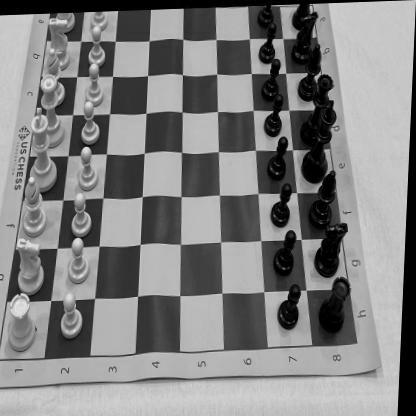black-bishop: (310, 171, 338, 228), (298, 43, 322, 100)
black-king: (302, 99, 340, 182)
black-pawn: (280, 279, 304, 332), (276, 228, 300, 276), (272, 177, 294, 226), (263, 89, 285, 137), (260, 56, 282, 99), (269, 132, 289, 179), (258, 21, 278, 63), (257, 4, 276, 28)
black-queen: (306, 72, 336, 137)
black-rook: (319, 276, 355, 334), (316, 218, 350, 278), (292, 10, 318, 62), (292, 3, 315, 30)
white-bishop: (22, 170, 50, 232), (42, 45, 68, 104)
white-king: (28, 103, 62, 190)
white-knight: (16, 231, 48, 293), (47, 14, 73, 68)
white-pawn: (65, 234, 94, 282), (74, 142, 102, 191), (58, 290, 87, 337), (68, 190, 96, 234), (76, 98, 103, 143), (83, 60, 106, 104), (85, 23, 108, 65), (86, 9, 108, 28)
white-queen: (36, 71, 68, 146)
white-rook: (9, 286, 41, 350), (52, 10, 77, 31)
